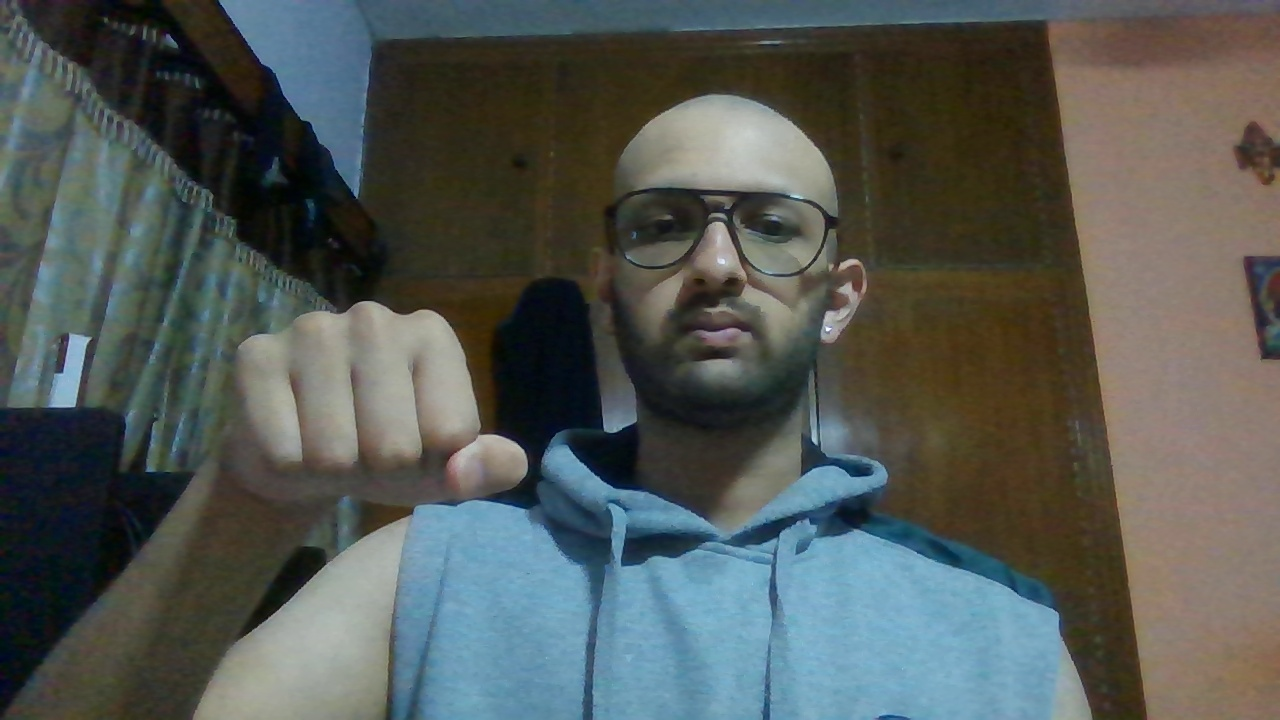Yes: (221, 297, 537, 522)
